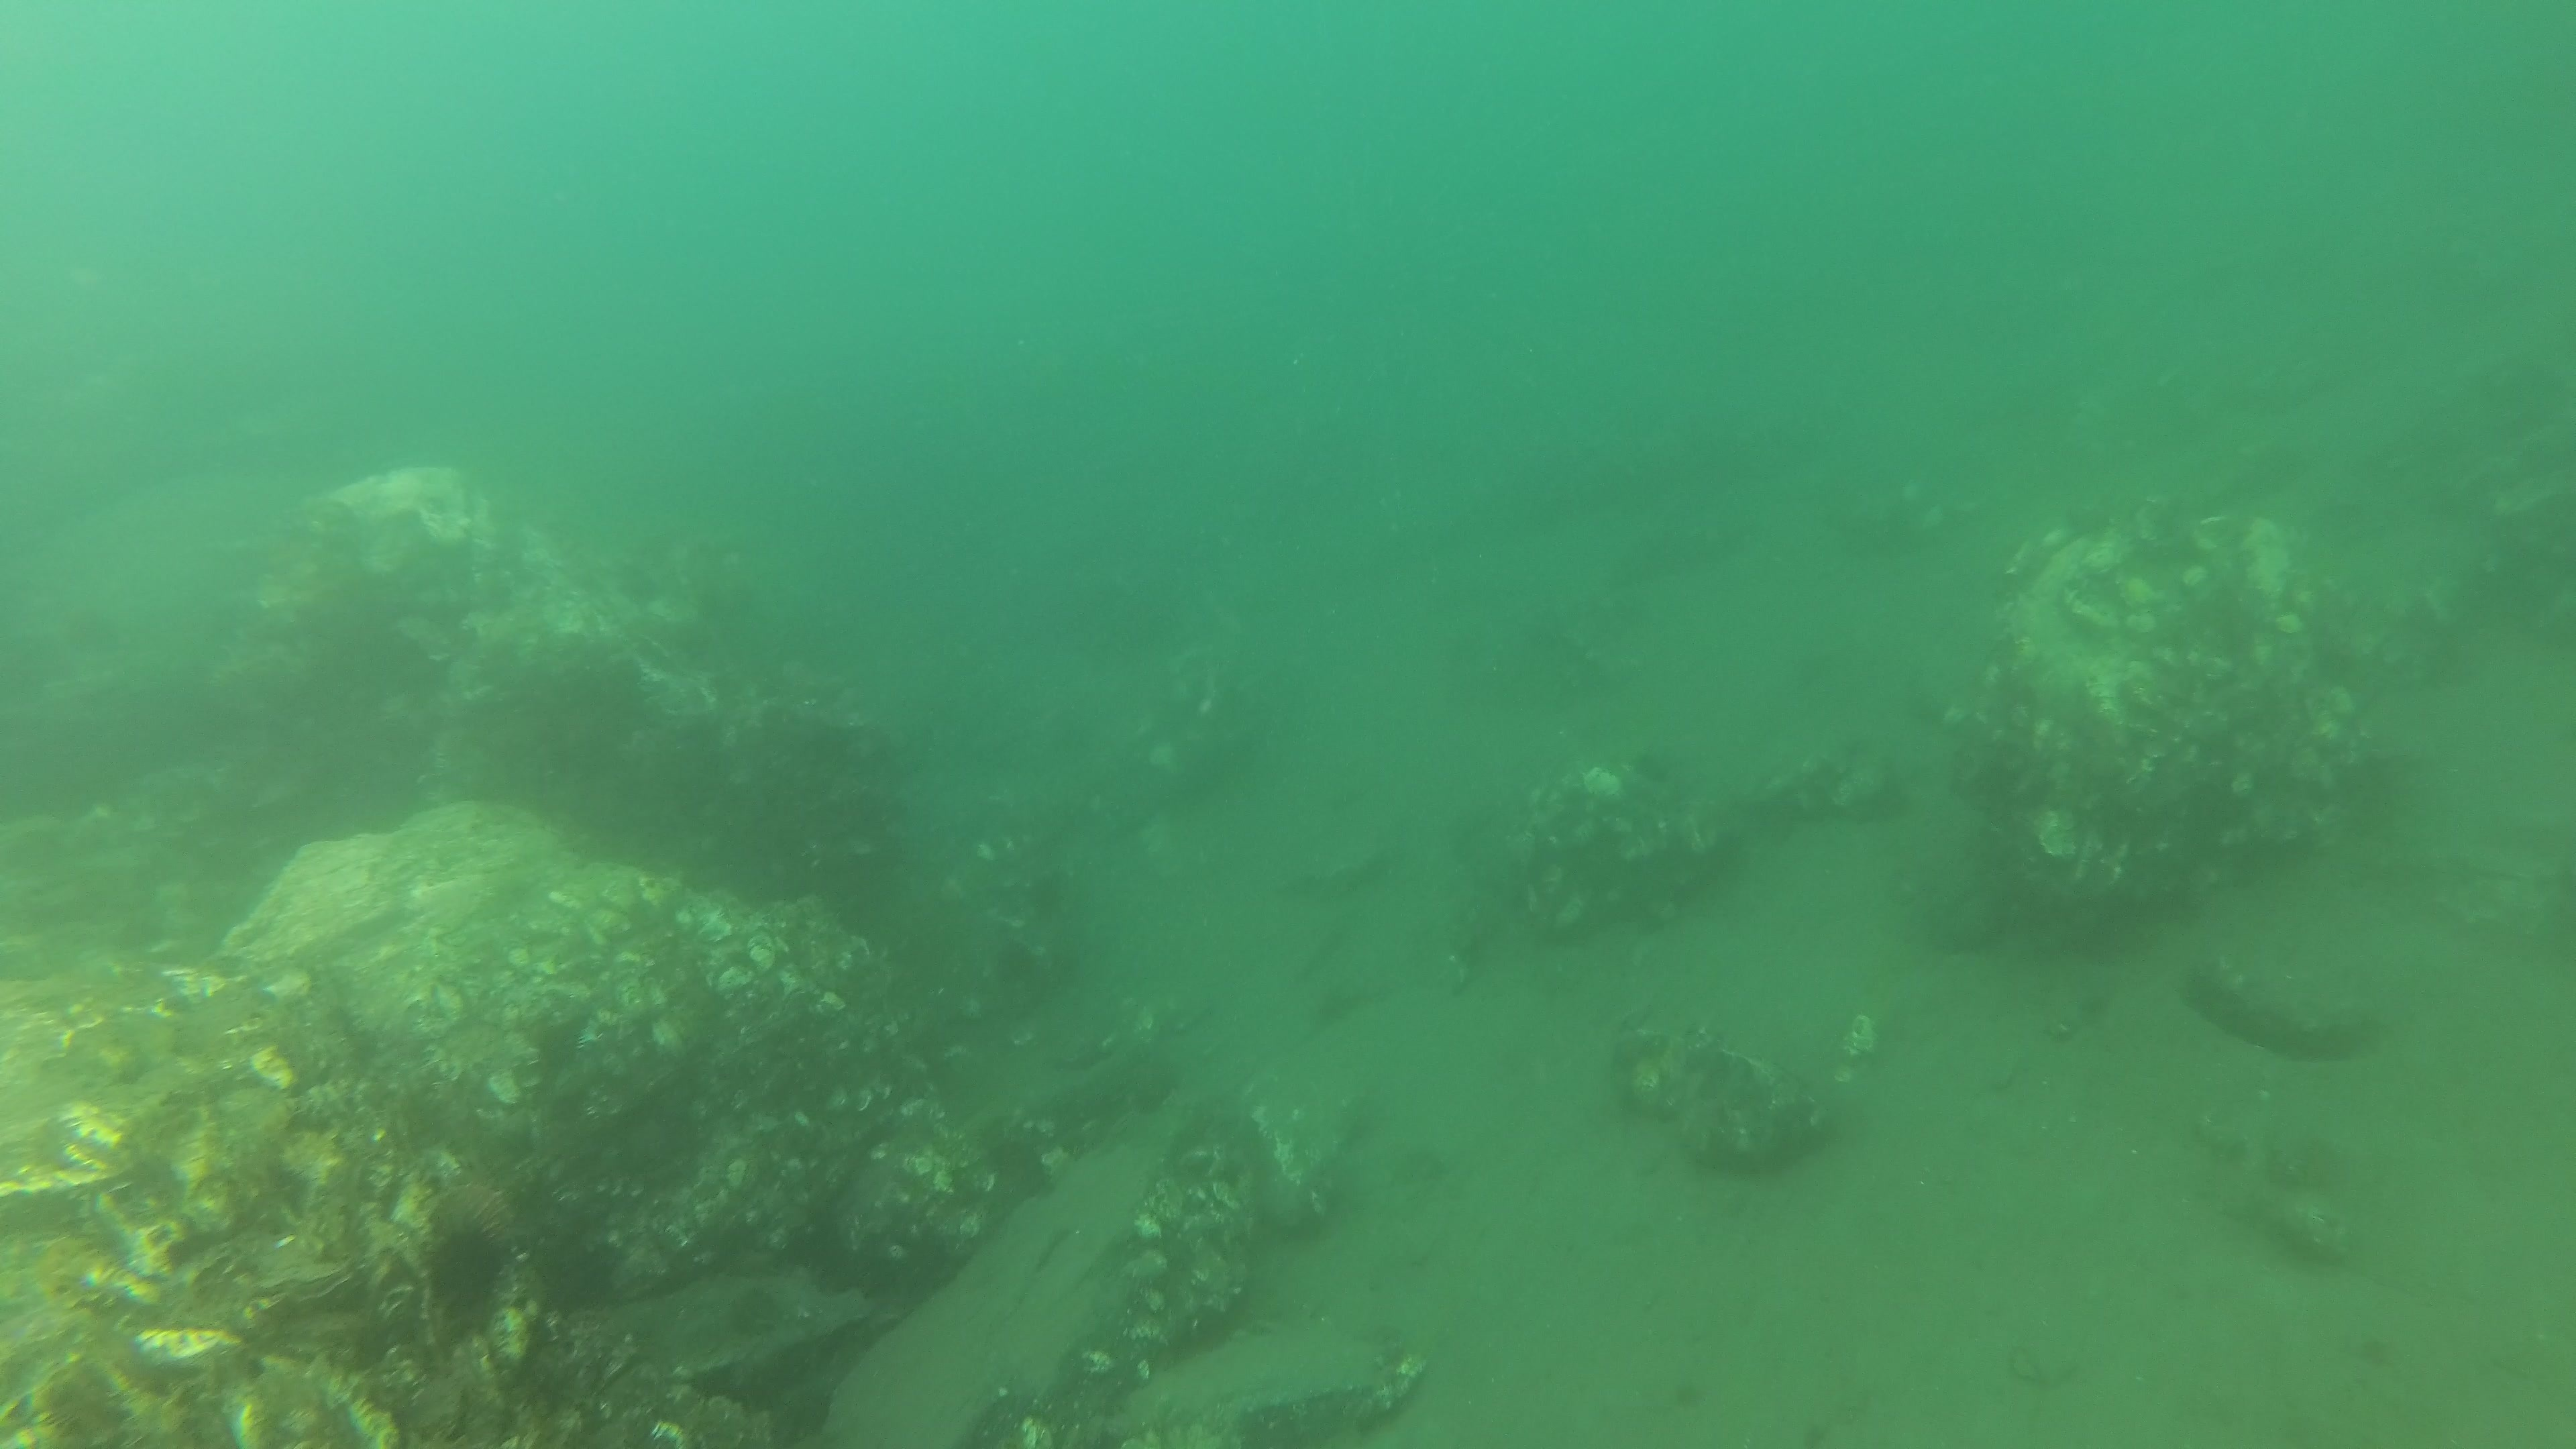echinus: (425, 1228, 499, 1323)
